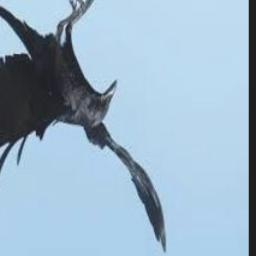Crow: (0, 0, 167, 254)
